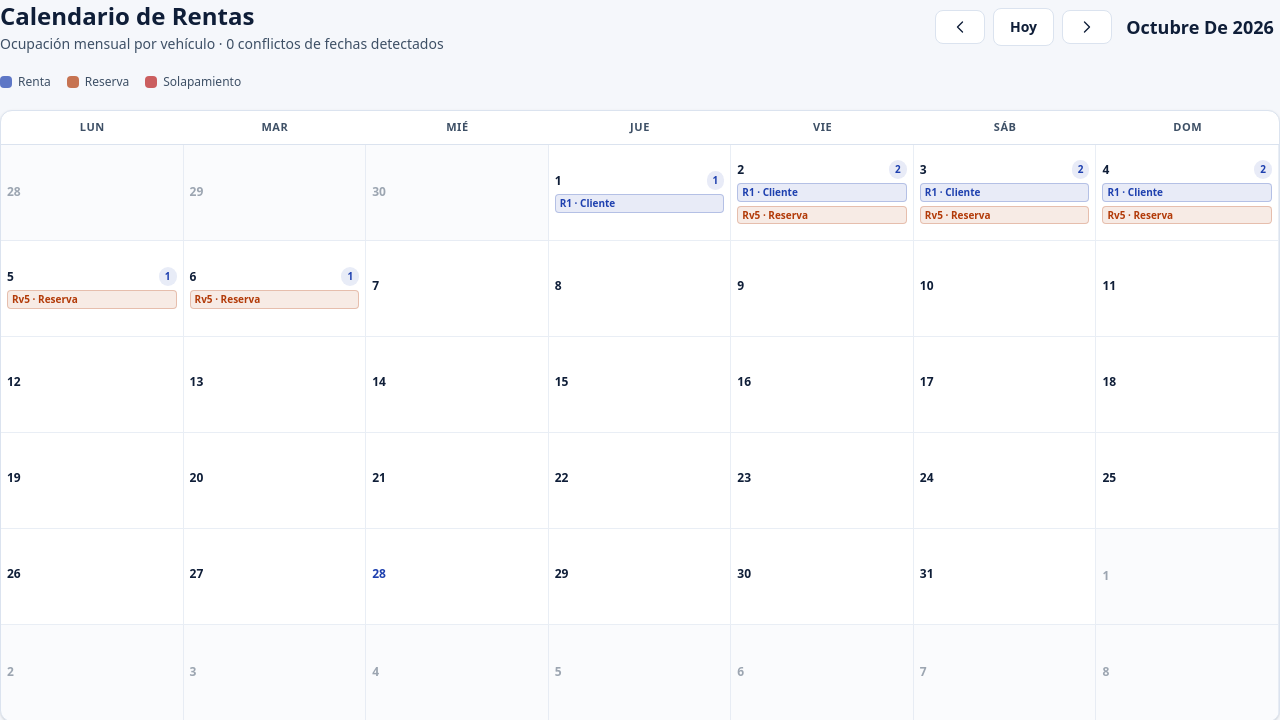
Calendario — ramas de navegación, errores y detalle › lista reservas en el detalle del día ordenadas por recogida
Click the button "2 2 R1 · Cliente Rv5 · Reserva". click: click(823, 192)
box: [731,144,914,240]
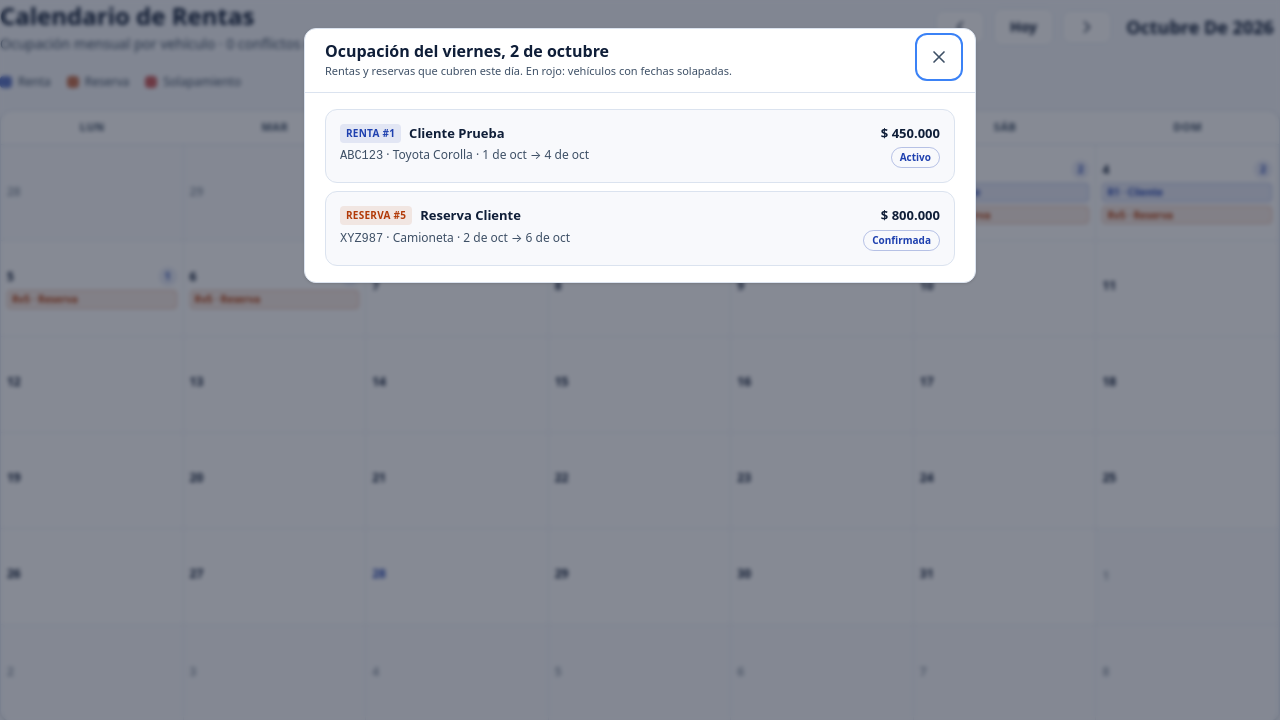
Expected: the dialog shows "Reserva #5", [346,208,406,222]
Expected: the dialog shows "Renta #1", [346,126,395,140]
